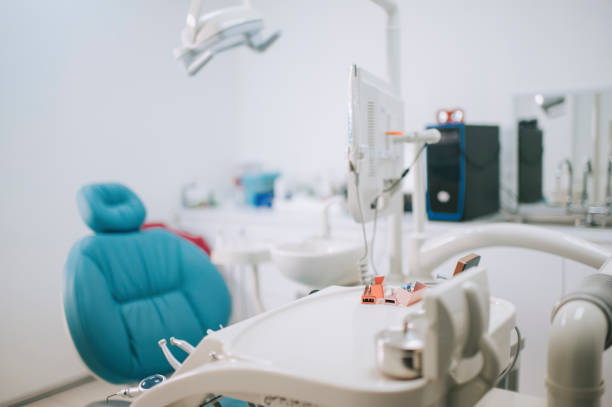bedside_monitor: (346, 62, 443, 222)
exam_table: (63, 182, 259, 407)
sink: (267, 236, 369, 283)
surgical_light: (174, 1, 282, 74)
